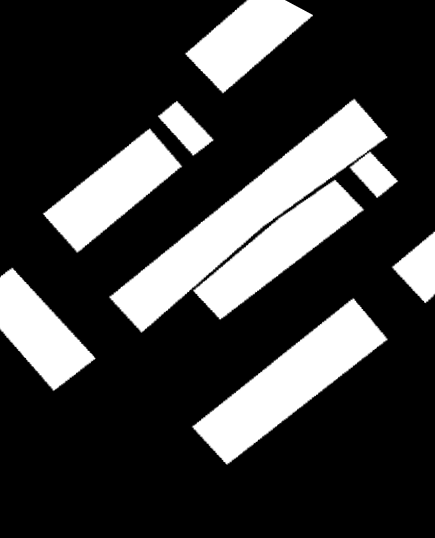parkingspot: (109, 99, 398, 333), (192, 298, 387, 464), (193, 180, 364, 319), (43, 129, 182, 252), (185, 0, 313, 93), (0, 268, 95, 391), (392, 232, 435, 303), (158, 101, 213, 155)
